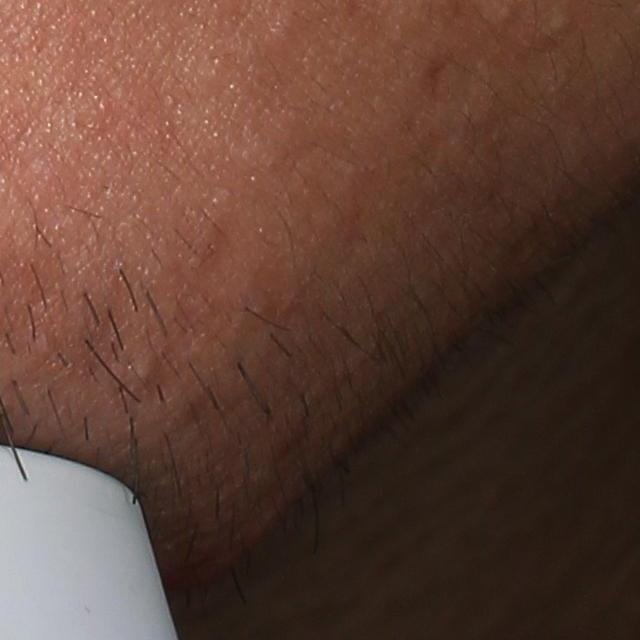comedo: (127, 344, 160, 384)
